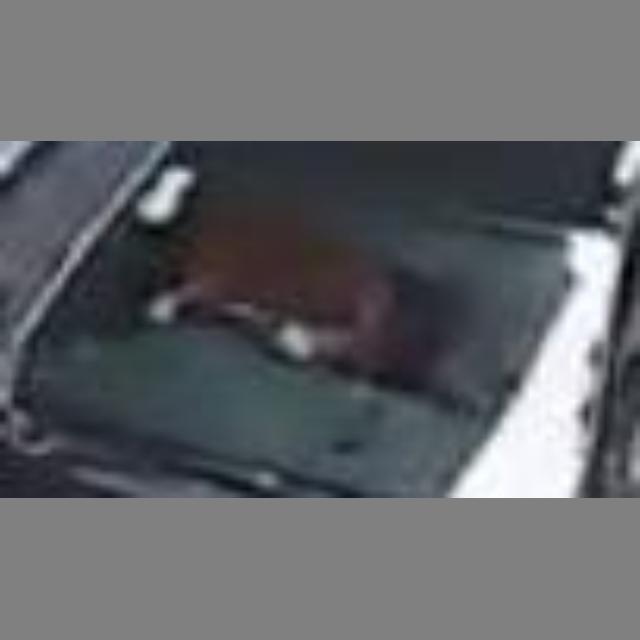tidak-pakai: (151, 191, 408, 386)
